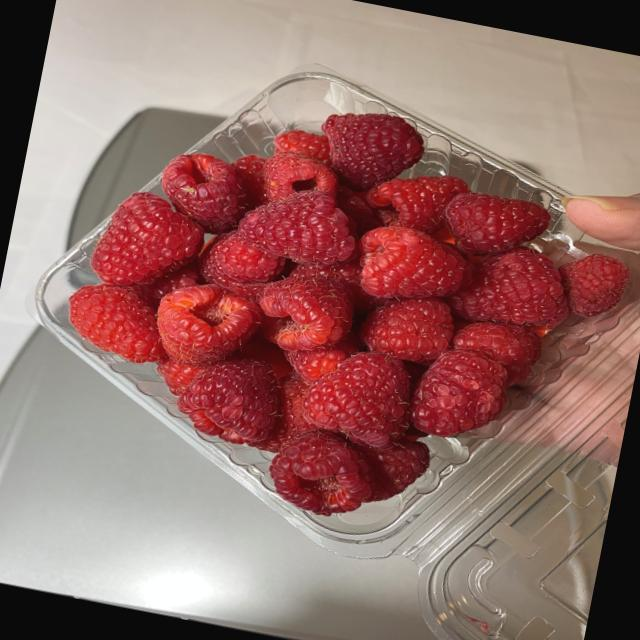raspberries: (54, 98, 597, 508)
